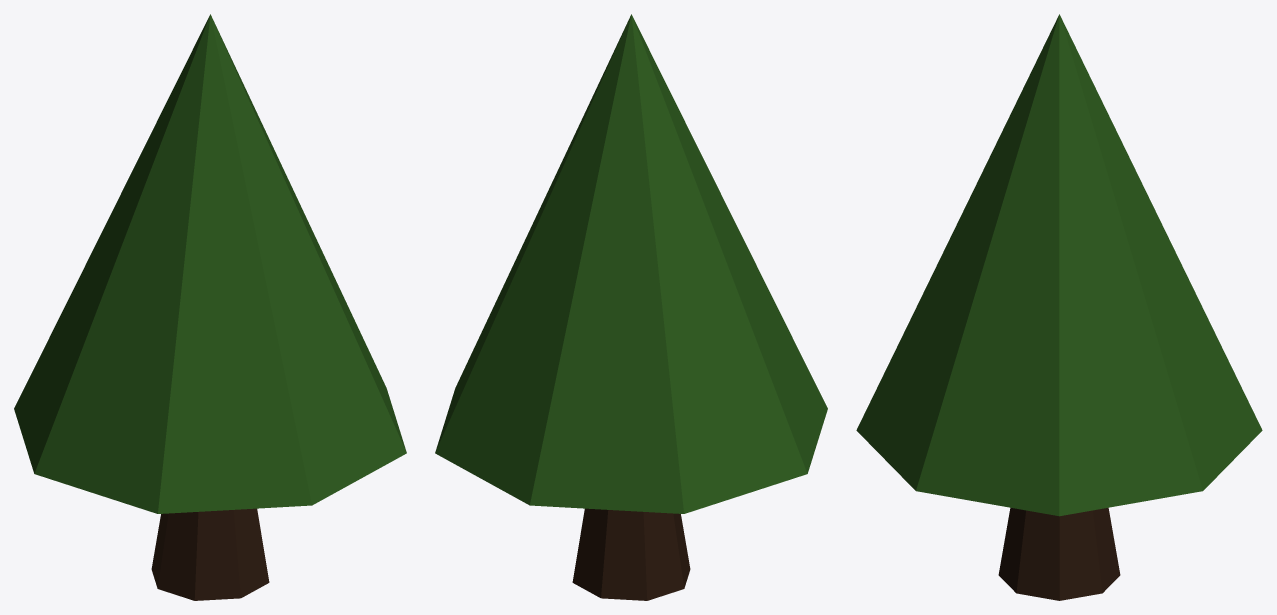
The model's file is largetree.dae.
3 renders of one model, left to right at view 1: azimuth 30°, elevation 25°; view 2: azimuth 150°, elevation 25°; view 3: azimuth 270°, elevation 25°, orthographic.
Visible parts, largest first — view 1: Cylinder_007; view 2: Cylinder_007; view 3: Cylinder_007.
Boxes of the visible parts, box(x1,y1,x2,y2) form: Cylinder_007: box(14, 14, 406, 600); Cylinder_007: box(435, 14, 827, 600); Cylinder_007: box(856, 14, 1262, 600).
Bounding box in the file's own units: 7.33 × 7.33 × 11.18.
